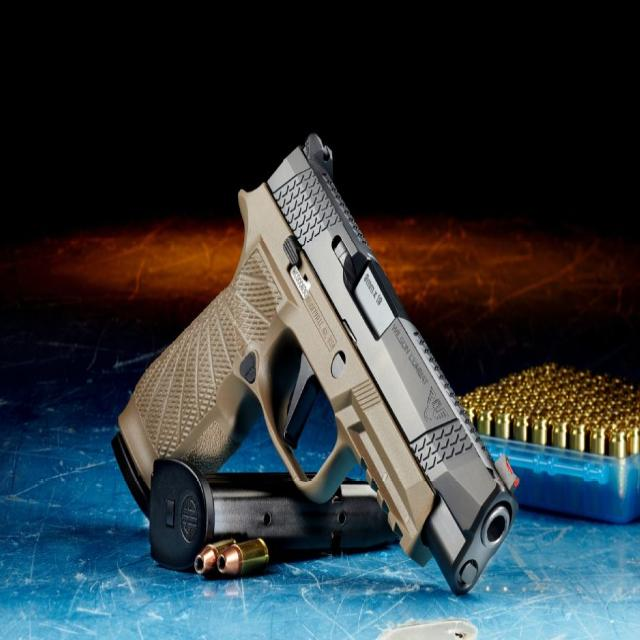Weapon: (114, 135, 517, 594)
